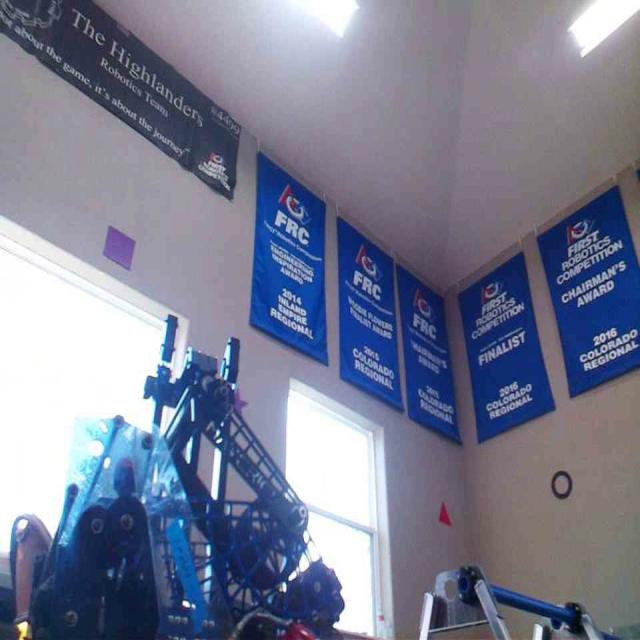ring_black: (550, 468, 573, 499)
square_purple: (100, 223, 134, 270)
triangle_red: (437, 502, 452, 526)
